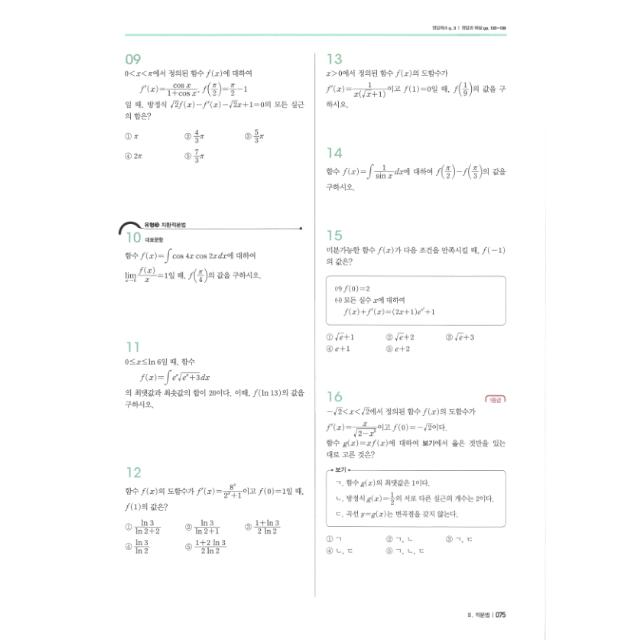multiple: (318, 382, 514, 562), (319, 224, 515, 358), (119, 45, 307, 172), (116, 458, 308, 564)
short: (114, 212, 306, 294), (117, 334, 307, 414), (320, 46, 508, 116), (320, 140, 510, 196)
